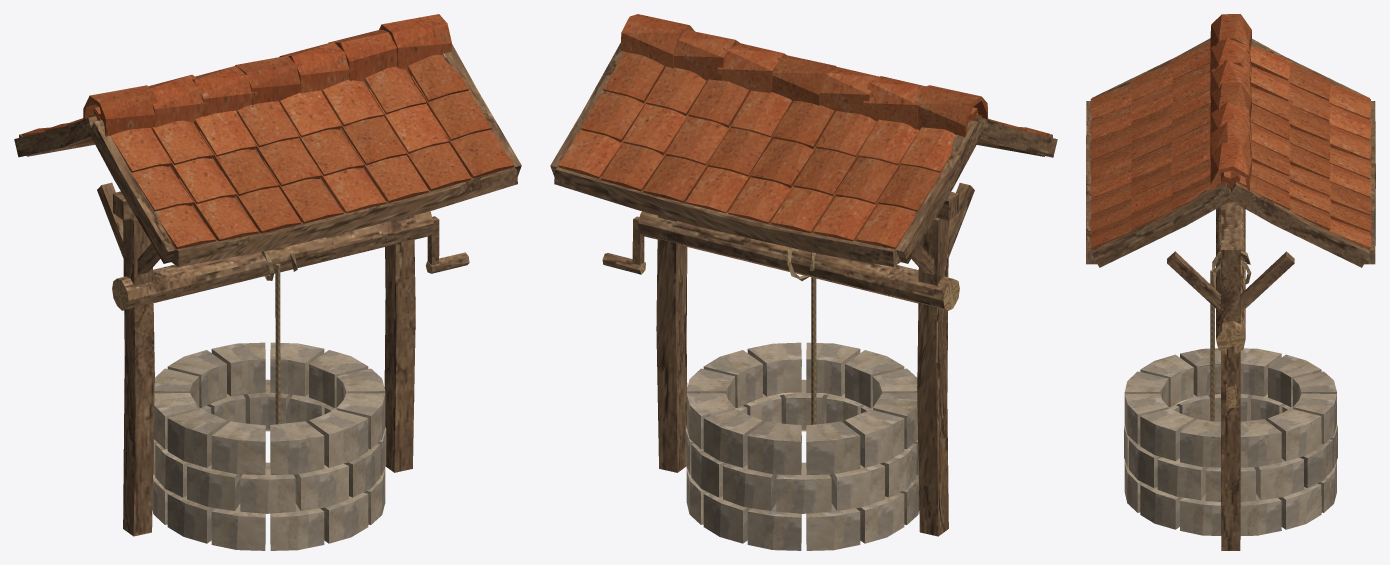
The model's file is well_LOD2.fbx.
3 renders of one model, left to right at view 1: azimuth 30°, elevation 25°; view 2: azimuth 150°, elevation 25°; view 3: azimuth 270°, elevation 25°, orthographic. The views are drawn at different scales.
Visible parts, largest first — view 1: PROP_Well_A_LOD2; view 2: PROP_Well_A_LOD2; view 3: PROP_Well_A_LOD2.
Part boxes in pixels (x1,y1,x2,y2): PROP_Well_A_LOD2: [14, 14, 521, 550]; PROP_Well_A_LOD2: [550, 14, 1057, 550]; PROP_Well_A_LOD2: [1086, 14, 1375, 550].
Bounding box in the file's own units: 259 × 293 × 192.
